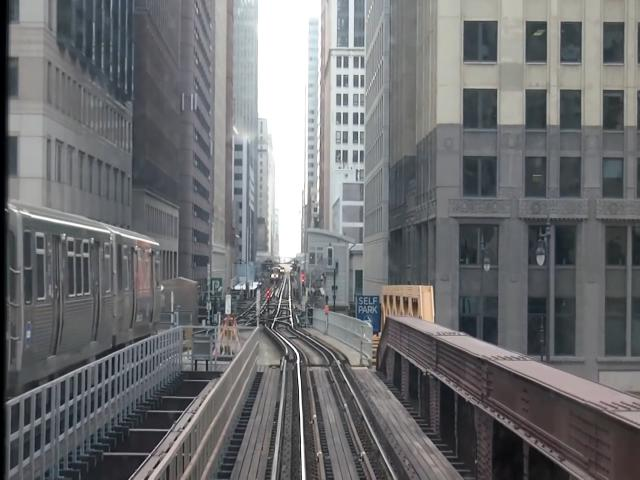signal light: (267, 289, 271, 317), (303, 274, 306, 291)
